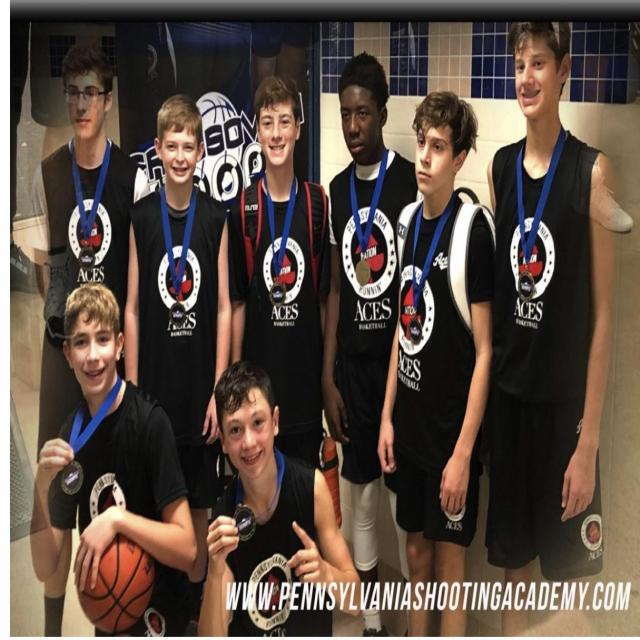Basketball: (76, 532, 154, 632)
